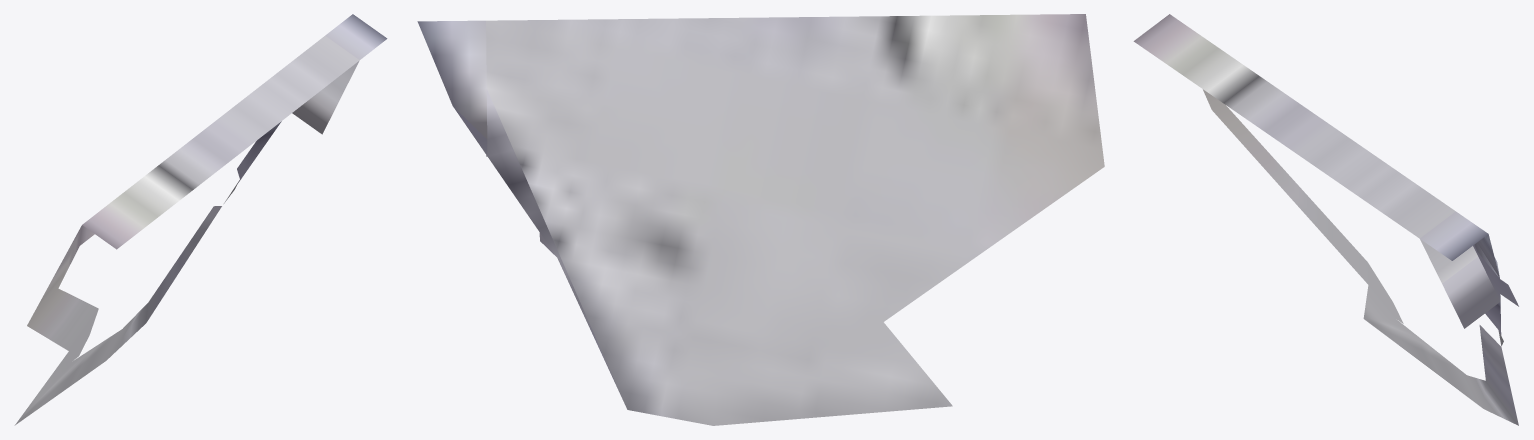
3 views of the same model, side by side, from view 1: azimuth 30°, elevation 25°; view 2: azimuth 150°, elevation 25°; view 3: azimuth 270°, elevation 25° (orthographic). The views are drawn at different scales.
Size of the model in its own units: 5.8 by 3.34 by 3.82.
1 material, 1 textured.
